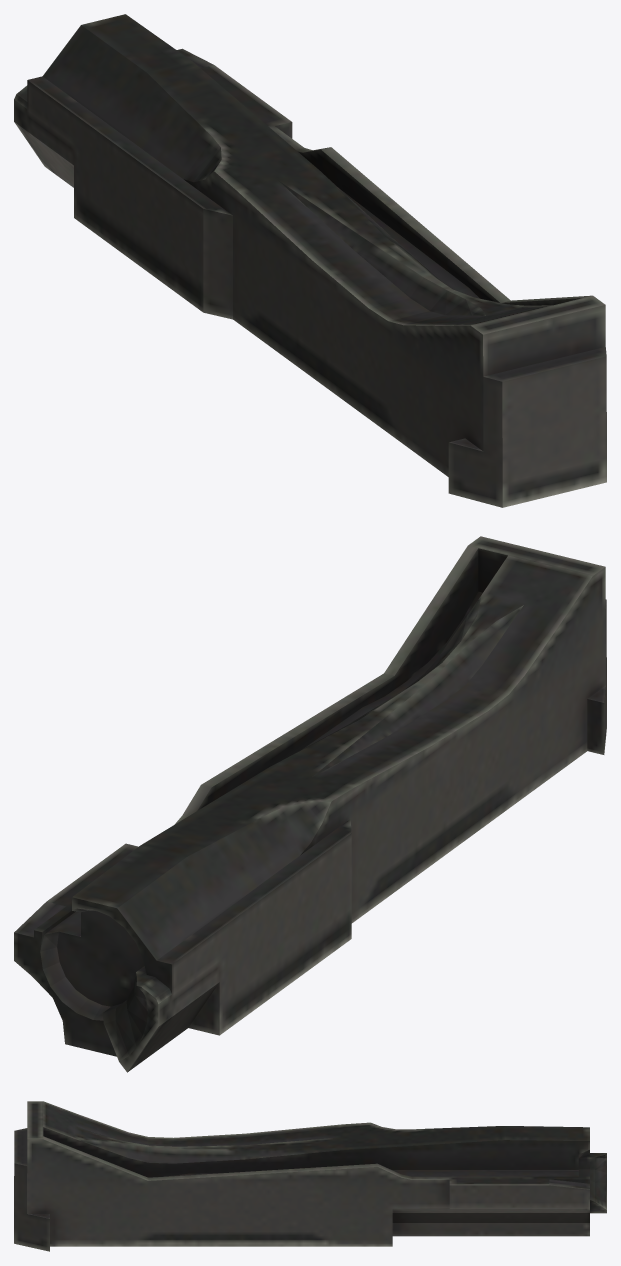
3 views of the same model, one above another, from view 1: azimuth 30°, elevation 25°; view 2: azimuth 150°, elevation 25°; view 3: azimuth 270°, elevation 25° (orthographic). The views are drawn at different scales.
Visible parts, largest first — view 1: TW_5b0bbe4e5acfc40dc528a72d_PZ_Import; view 2: TW_5b0bbe4e5acfc40dc528a72d_PZ_Import; view 3: TW_5b0bbe4e5acfc40dc528a72d_PZ_Import.
Boxes of the visible parts, bbox=[...] form: TW_5b0bbe4e5acfc40dc528a72d_PZ_Import: bbox=[14, 14, 606, 507]; TW_5b0bbe4e5acfc40dc528a72d_PZ_Import: bbox=[14, 536, 606, 1072]; TW_5b0bbe4e5acfc40dc528a72d_PZ_Import: bbox=[14, 1101, 606, 1251].
Bounding box in the file's own units: 0.0123 × 0.0634 × 0.0126.
Materials: 1 (1 with a texture image).
